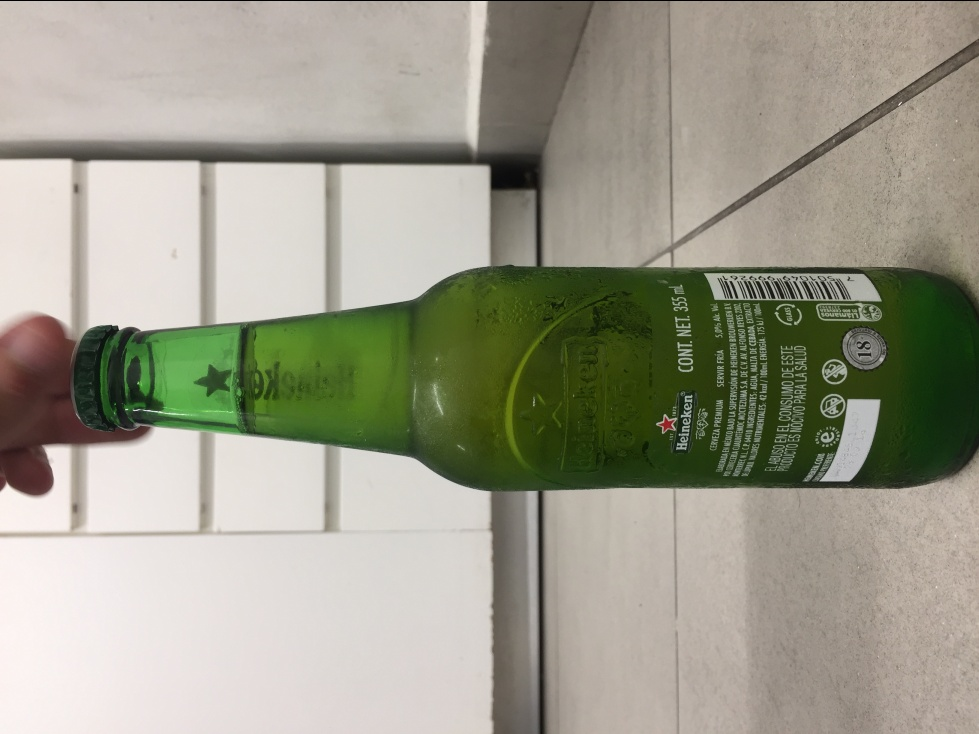heineken: (66, 261, 979, 492)
